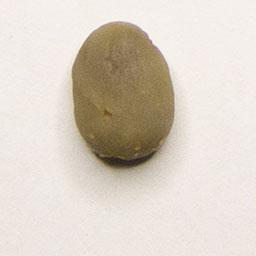premium: (68, 18, 177, 165)
